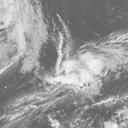cyclone: (52, 50, 110, 95)
